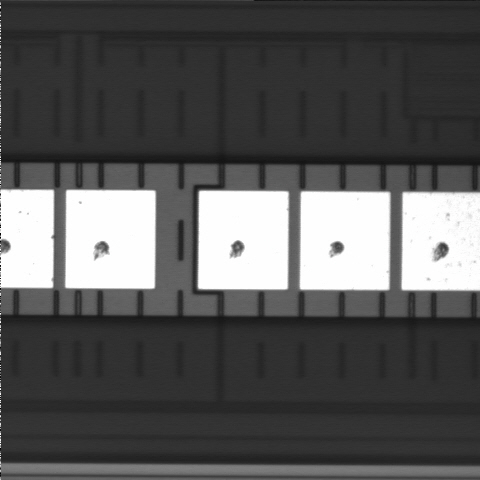pad: (65, 190, 156, 289), (198, 191, 288, 289), (300, 192, 390, 290)
